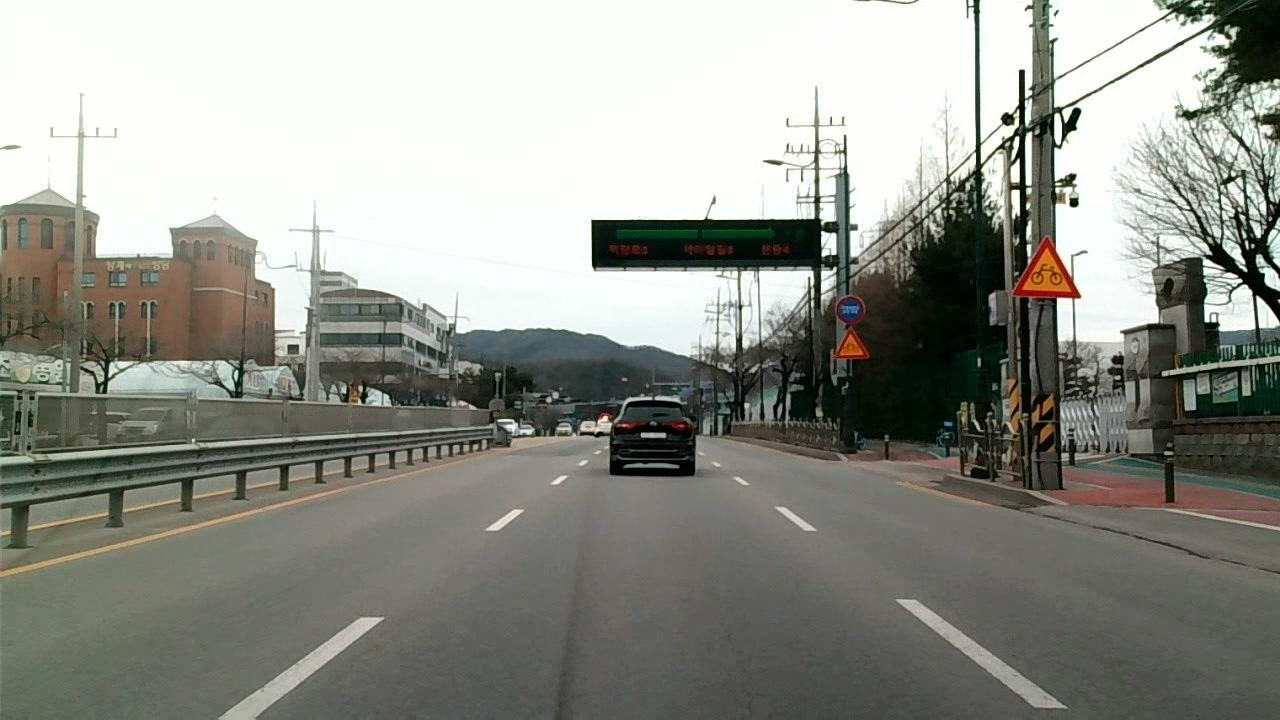vcrack: (1031, 506, 1245, 566)
